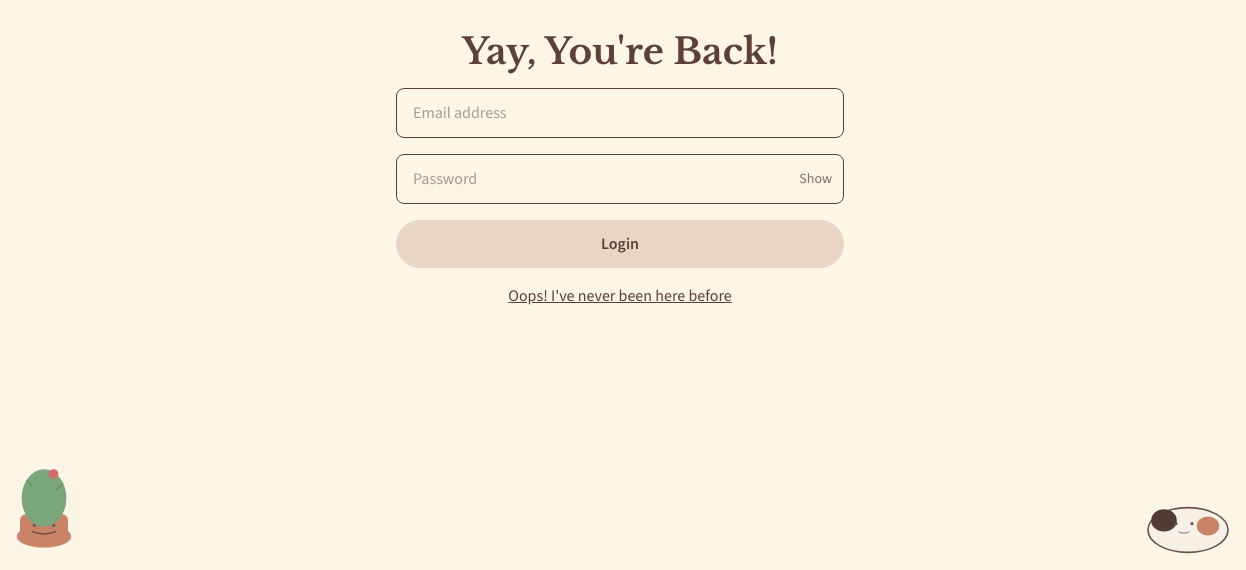
Scenario: AuthForm › shows a friendly error on an ApiError
In the field with placeholder "Email address": (620, 113) x1=396 y1=88 x2=844 y2=138, type "a@b.com"
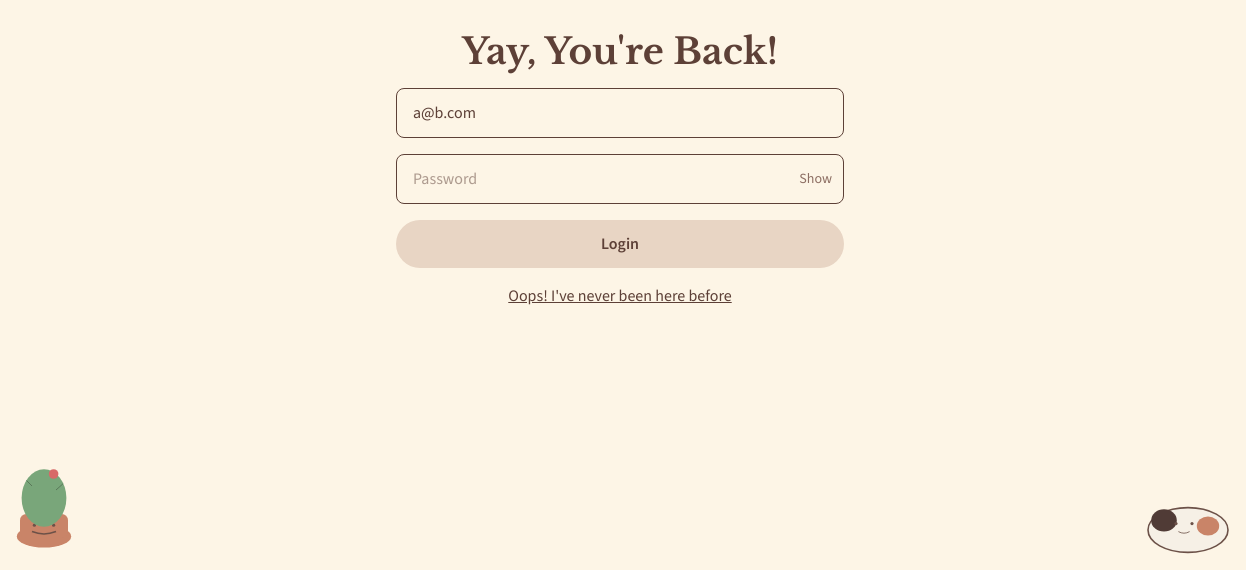
In the password field with placeholder "Password": (620, 179) x1=396 y1=154 x2=844 y2=204, type "wrongpass"
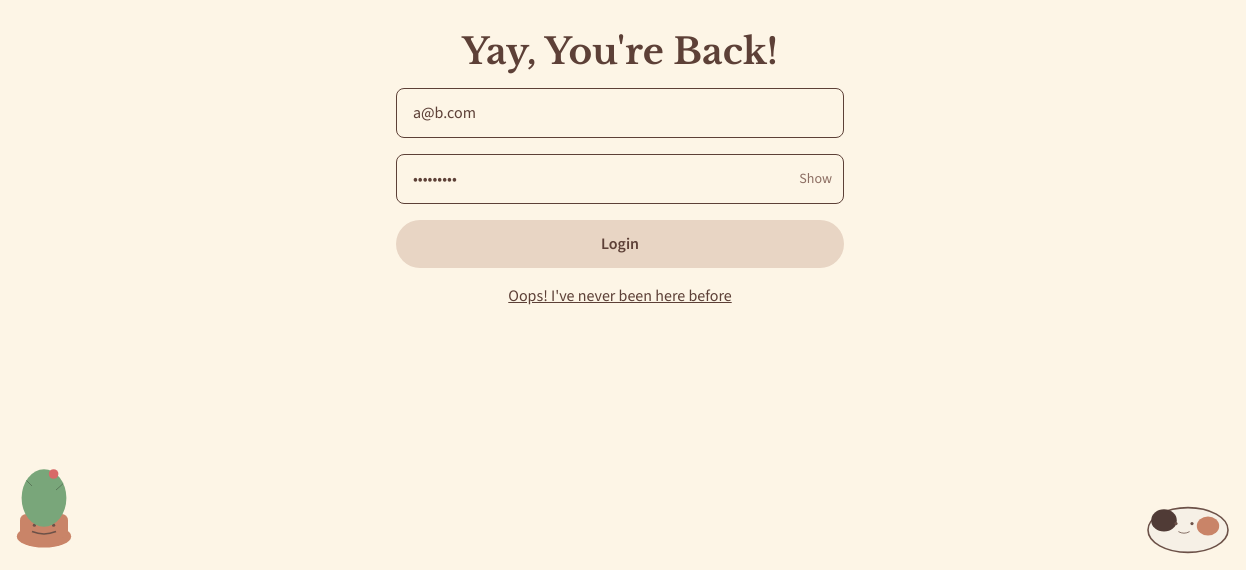
Click the button "Login": click(620, 244) x1=396 y1=220 x2=844 y2=268
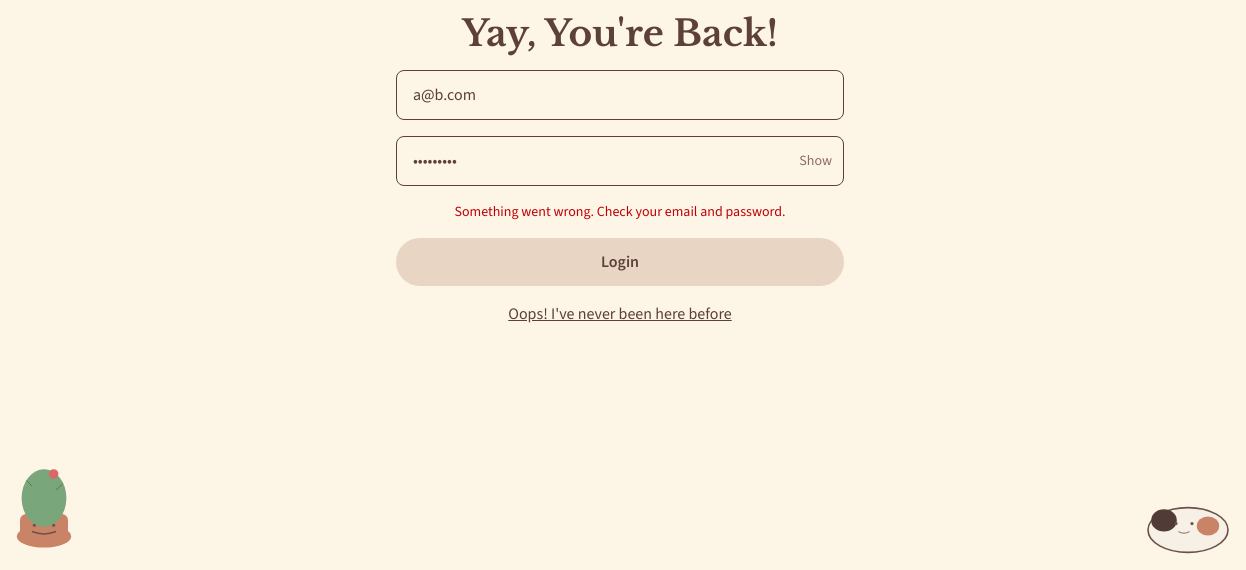
Expected: the text "Something went wrong. Check your email and password." is shown, x1=454 y1=202 x2=786 y2=221
